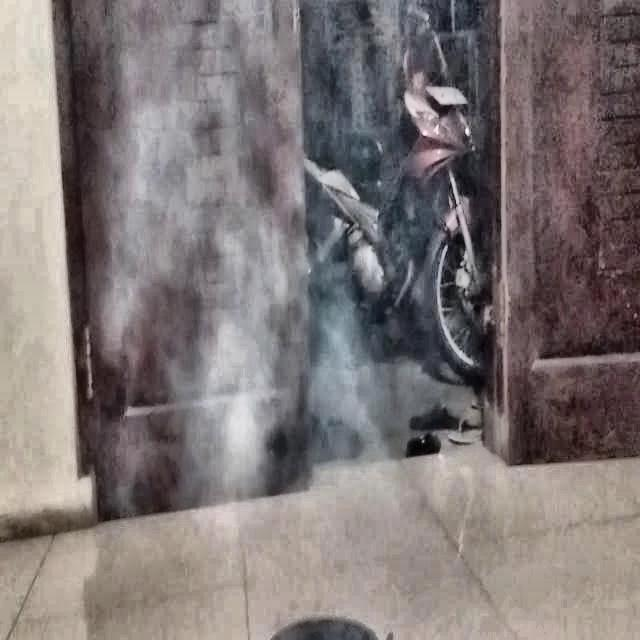smoke: (115, 0, 409, 306), (104, 336, 426, 576)
